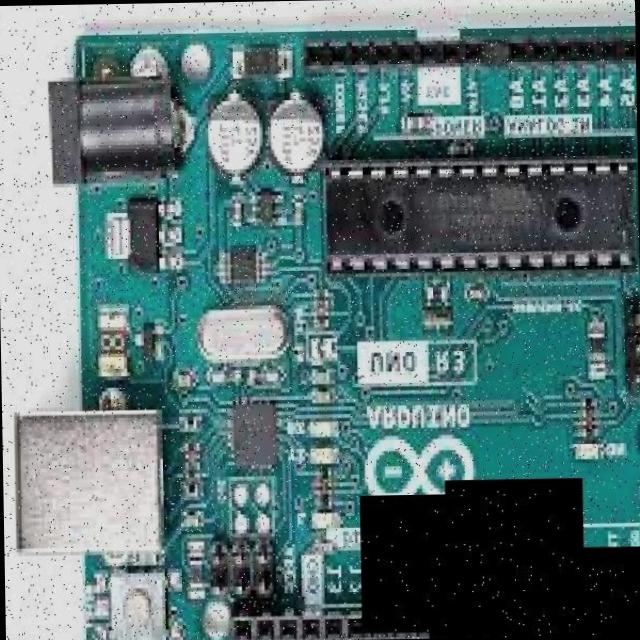arduino: (59, 27, 640, 640)
